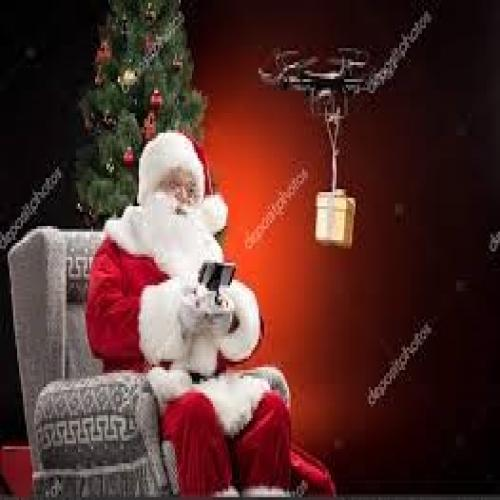Santa: (85, 130, 291, 497)
